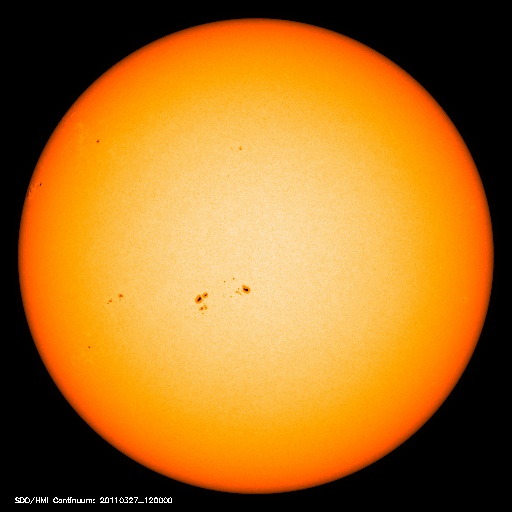sunspot: (186, 273, 256, 318), (215, 136, 257, 160), (25, 170, 53, 201), (100, 285, 135, 309), (75, 333, 101, 359), (87, 132, 108, 150)
